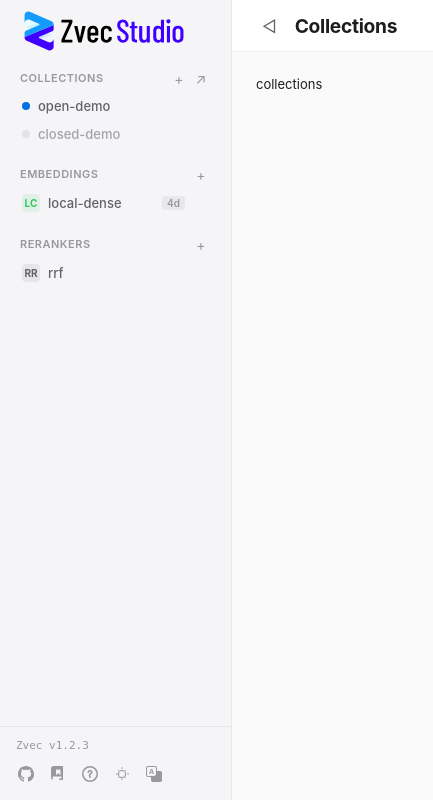
Test: AppShell › renders sidebar resources and opens a recent collection
Check: the text "open-demo" is shown, box [38,98,110,114]
Check: the text "Zvec v1.2.3" is shown, box [16,739,89,752]
Click the text "closed-demo": click(79, 134) [38,126,120,142]
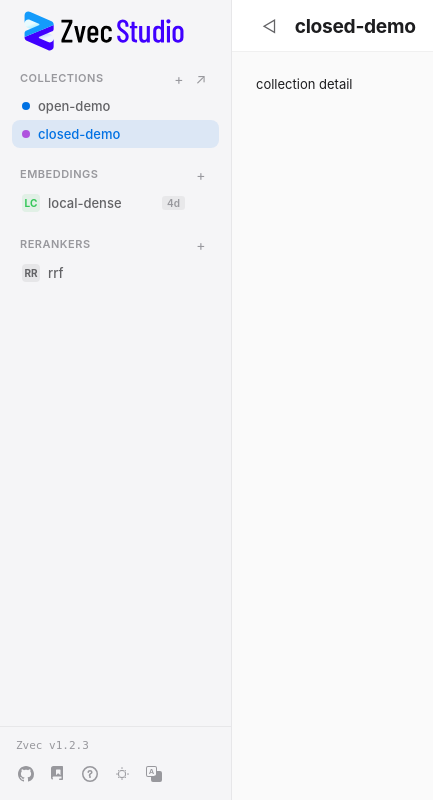
Check: the text "collection detail" is shown, box [256,76,352,92]
